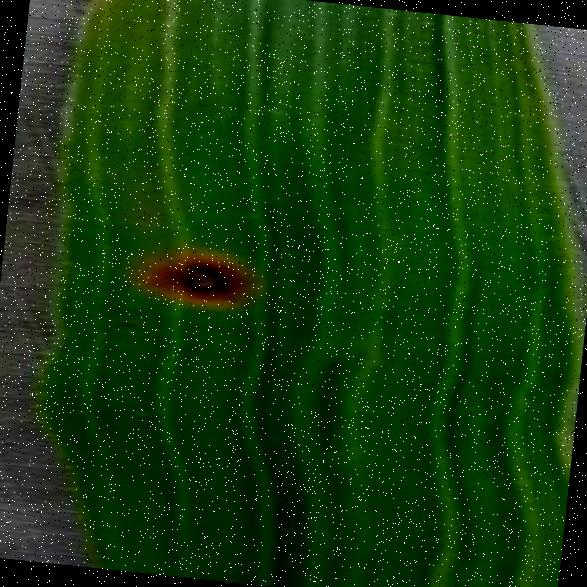Brown_Spot: (124, 233, 264, 319), (104, 312, 144, 336)
